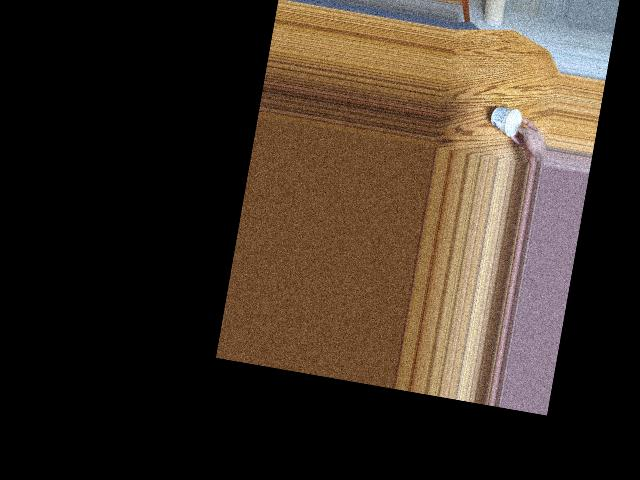cotage: (490, 103, 524, 139)
